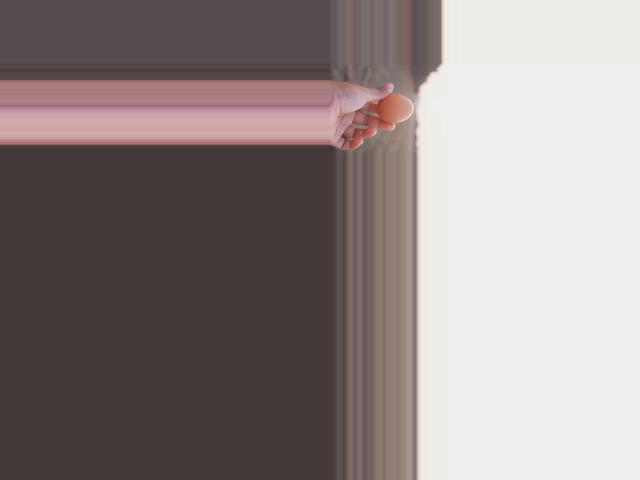egg: (377, 94, 413, 123)
